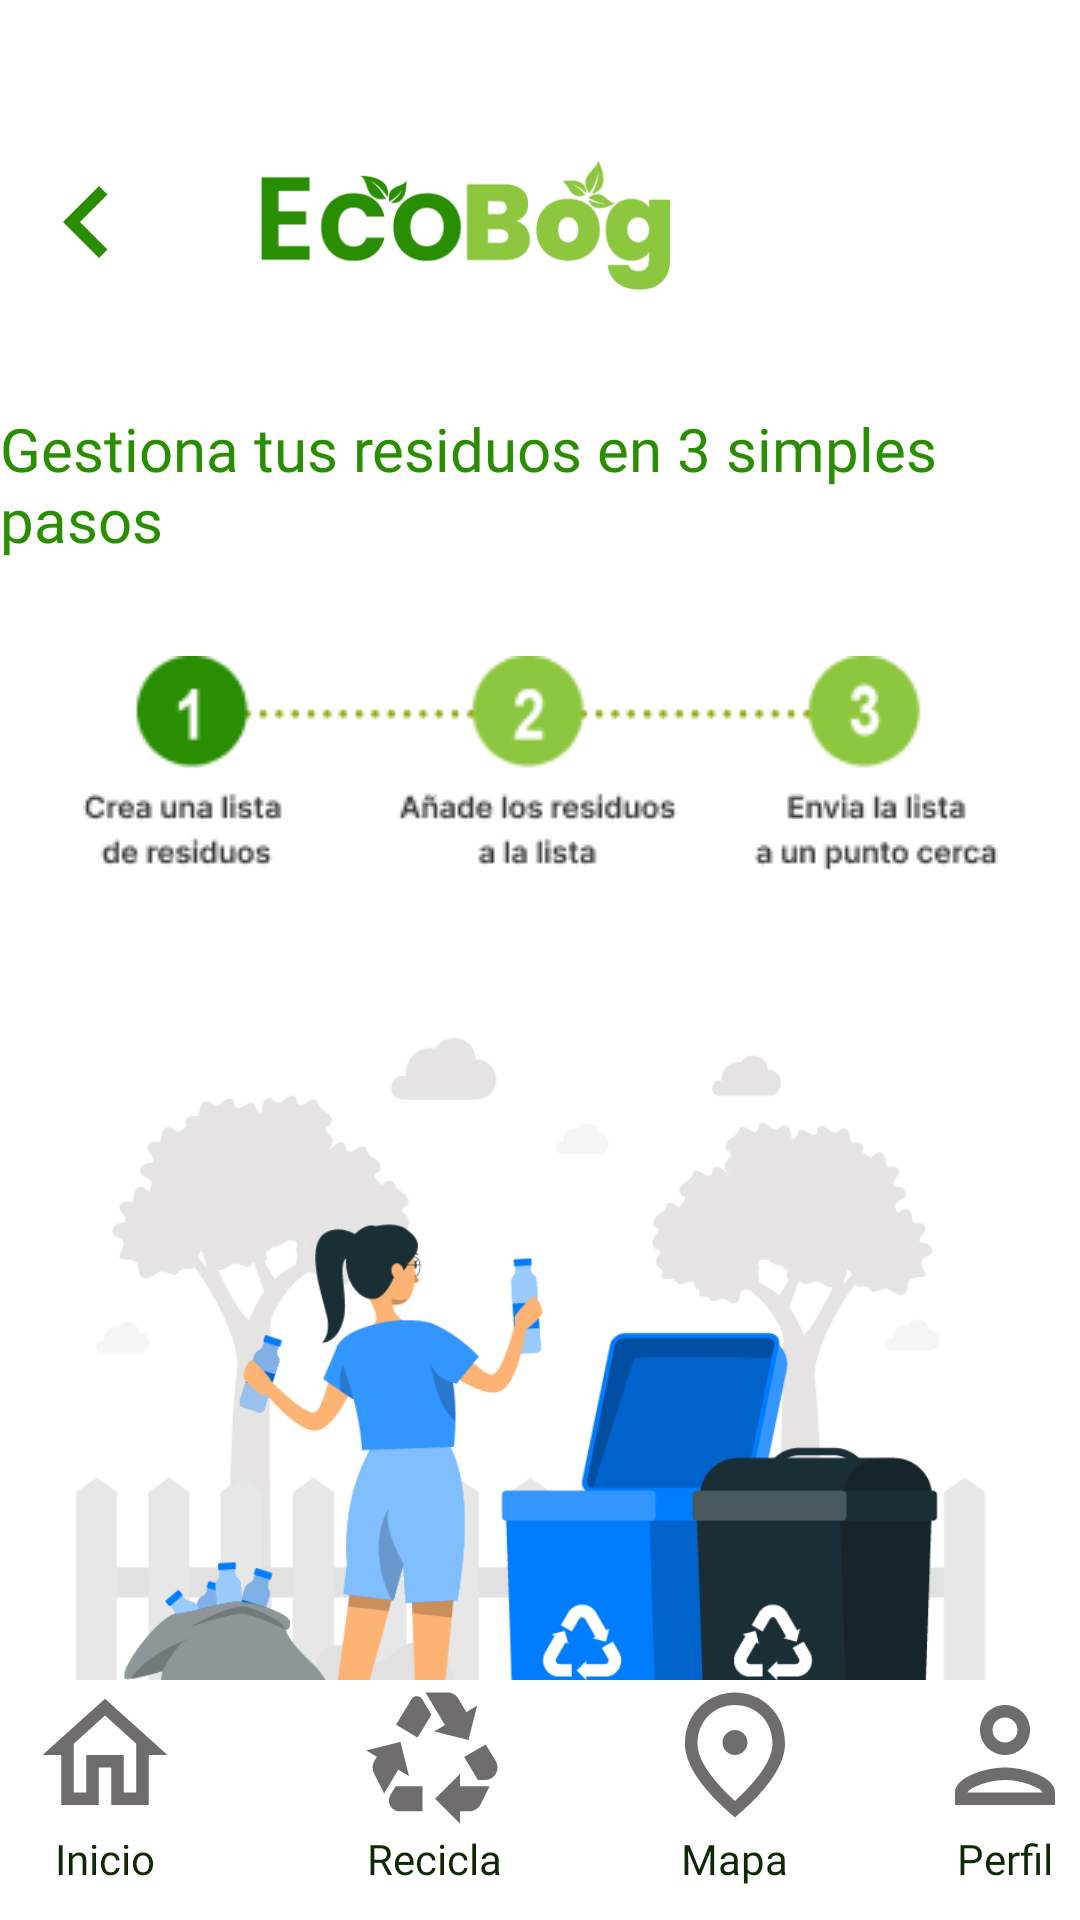

Icon click points for this 1080×1920 phone screenshot, format (x=x, y=y):
place: (x=735, y=1754)
Volver a la pantalla anterior: (x=85, y=222)
